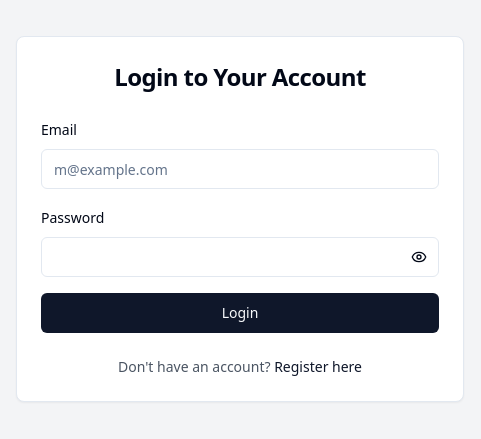
Test: User Login › Displays error for invalid credentials
This screenshot has width=481, height=439.
Type "invalid@example.com" into the field with id "email".
click(240, 169); type("invalid@example.com")  # box [41,149,439,189]
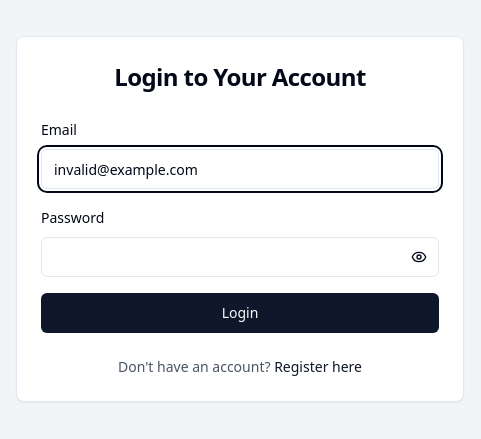
Type "wrongpassword" into the password field labelled "Password".
click(240, 257); type("wrongpassword")  # box [41,237,439,277]
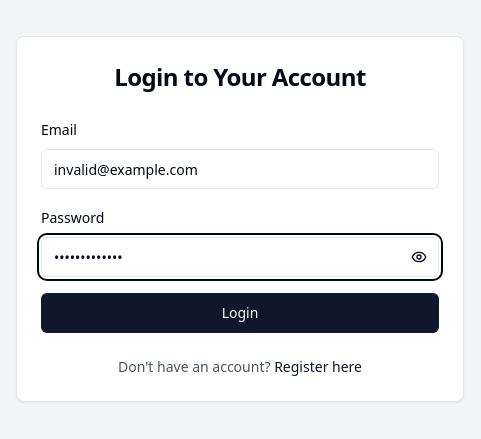
Click the submit button.
click(240, 313)  # box [41,293,439,333]
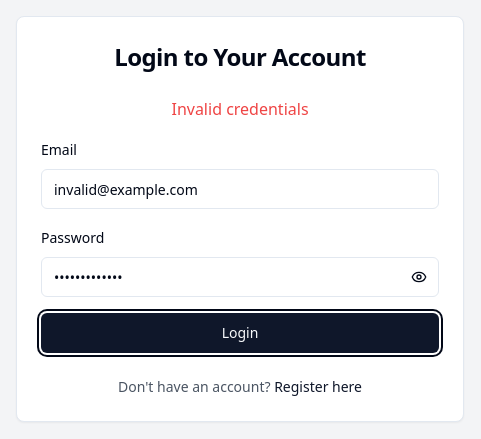
Now the text "Invalid credentials" is shown, box [172,98,309,120]
